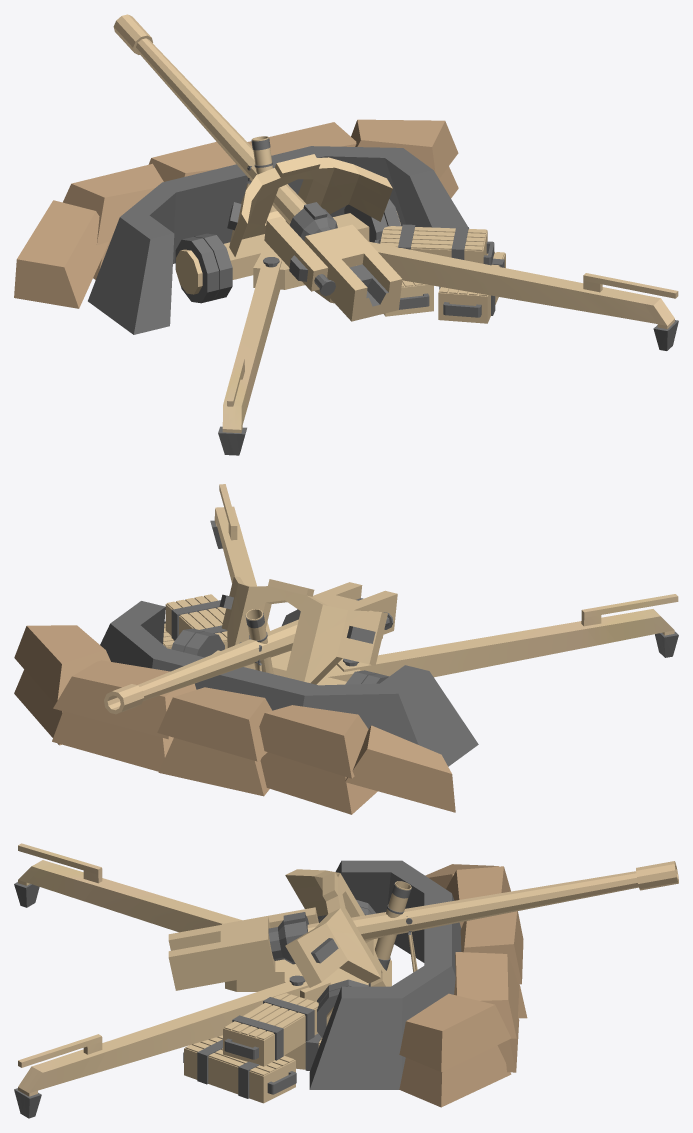
Rendered from mortars_tiers.fbx.
3 views of the same model, one above another, from view 1: azimuth 30°, elevation 25°; view 2: azimuth 150°, elevation 25°; view 3: azimuth 270°, elevation 25° (orthographic). The views are drawn at different scales.
Visible parts, largest first — view 1: mortar_t3, mortar_dot_t2, mortar_dot_t1, mortar_dot_t3, mortar_box, mortar_t1; view 2: mortar_dot_t1, mortar_t3, mortar_dot_t2, mortar_box, mortar_dot_t3, mortar_t1; view 3: mortar_t3, mortar_dot_t1, mortar_dot_t2, mortar_box, mortar_dot_t3, mortar_t1.
Part boxes in pixels (x1,y1,x2,y2): mortar_t3: (113, 14, 678, 455); mortar_dot_t2: (88, 146, 469, 334); mortar_dot_t1: (17, 119, 458, 303); mortar_dot_t3: (14, 121, 457, 308); mortar_box: (374, 224, 505, 323); mortar_t1: (245, 136, 276, 212); mortar_dot_t1: (14, 625, 455, 814); mortar_t3: (104, 484, 678, 714); mortar_dot_t2: (100, 601, 478, 766); mortar_box: (163, 594, 227, 649); mortar_dot_t3: (195, 714, 453, 812); mortar_t1: (239, 609, 273, 674); mortar_t3: (14, 843, 678, 1118); mortar_dot_t1: (399, 864, 527, 1107); mortar_dot_t2: (309, 860, 461, 1089); mortar_box: (183, 993, 322, 1103); mortar_dot_t3: (399, 874, 510, 1105); mortar_t1: (368, 881, 417, 986).
Bounding box in the file's own units: 635 × 206 × 796.
Materials: 4 (4 with a texture image).
